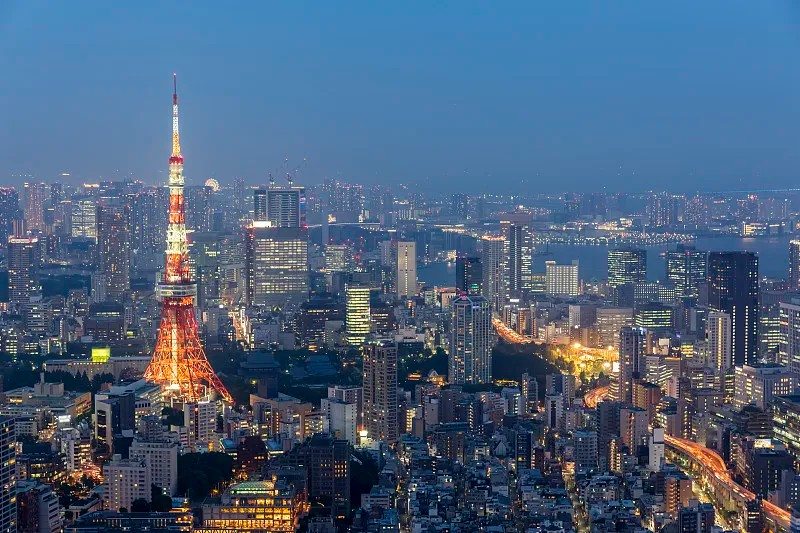Tokyo: (139, 70, 239, 410)
